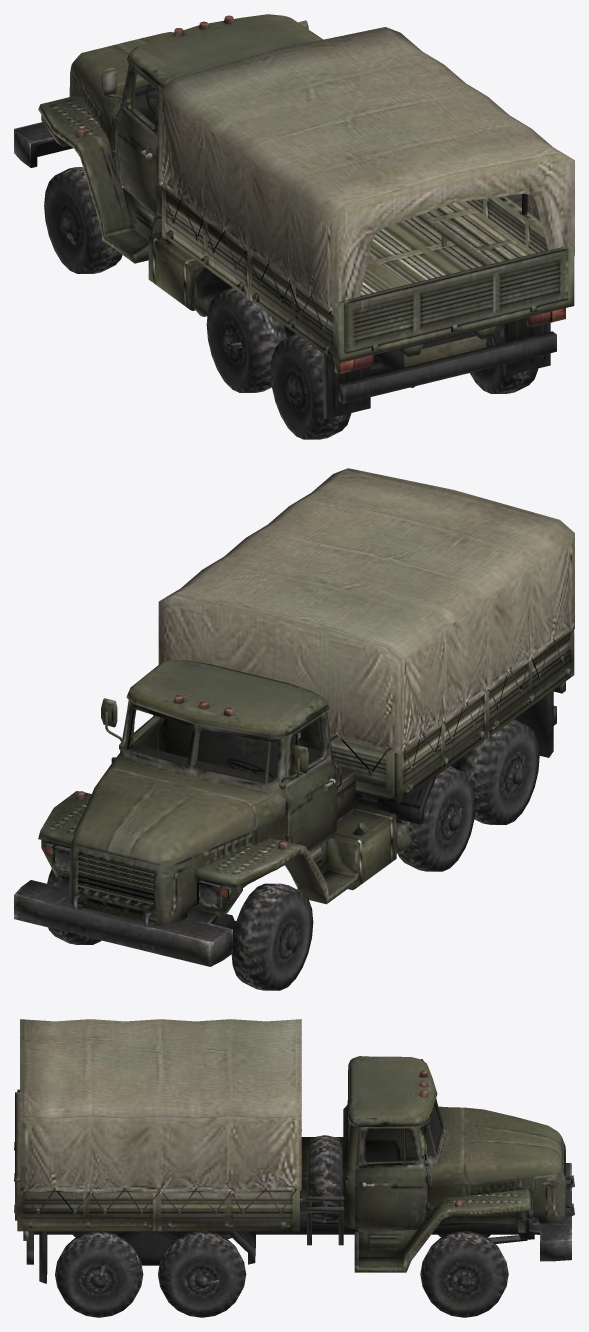
Rendered from truck.glb.
3 renders of one model, top to bottom at view 1: azimuth 30°, elevation 25°; view 2: azimuth 150°, elevation 25°; view 3: azimuth 270°, elevation 25°, orthographic. The views are drawn at different scales.
Visible parts, largest first — view 1: truck; view 2: truck; view 3: truck.
Boxes of the visible parts, bbox=[...] form: truck: bbox=[14, 14, 574, 439]; truck: bbox=[14, 468, 574, 990]; truck: bbox=[14, 1019, 574, 1317].
Bounding box in the file's own units: 2.98 × 3.19 × 7.37.
Materials: 1 (1 with a texture image).
